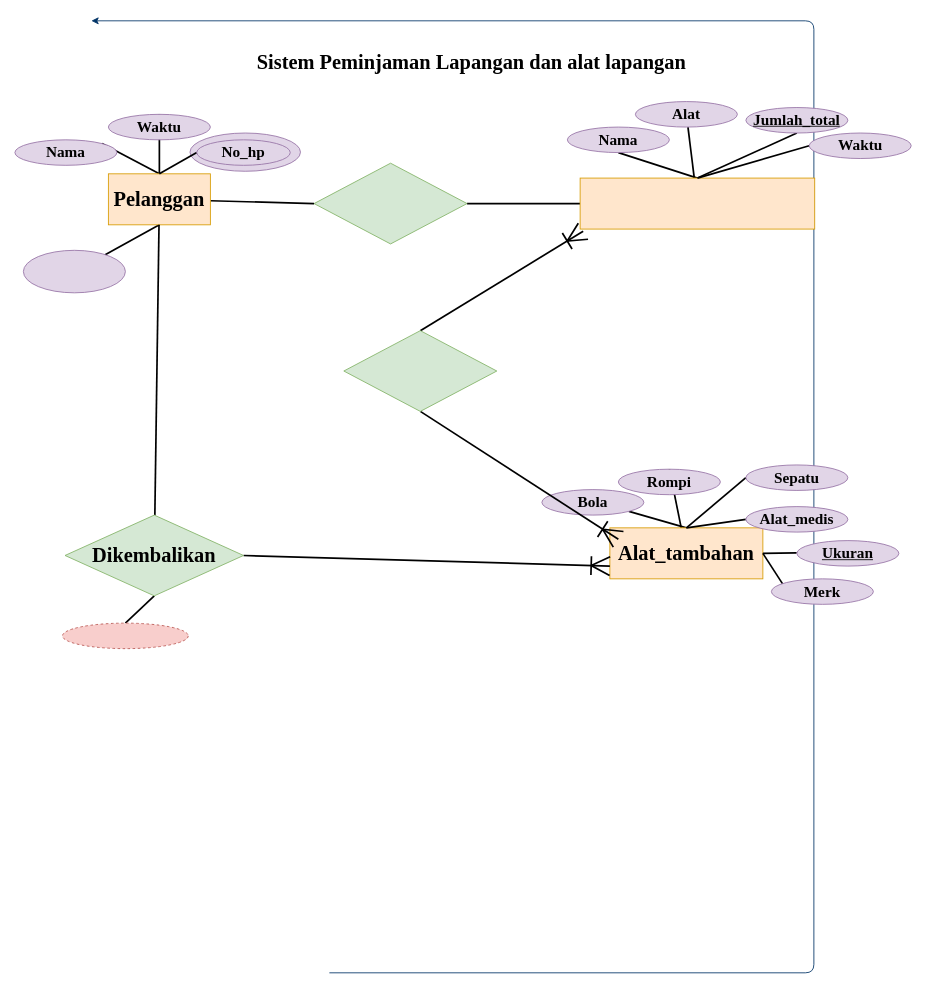
Some shapes in this 927 by 995 pixel diagram are drawn without their labels. Here are the shapes that lost their labels. From the top down, the centre of each, then its label:
point 390,203: Mengisi
point 697,203: Data_peminjaman_alat
point 74,271: No_lapangan
point 420,370: Meminjam
point 125,635: Denda
